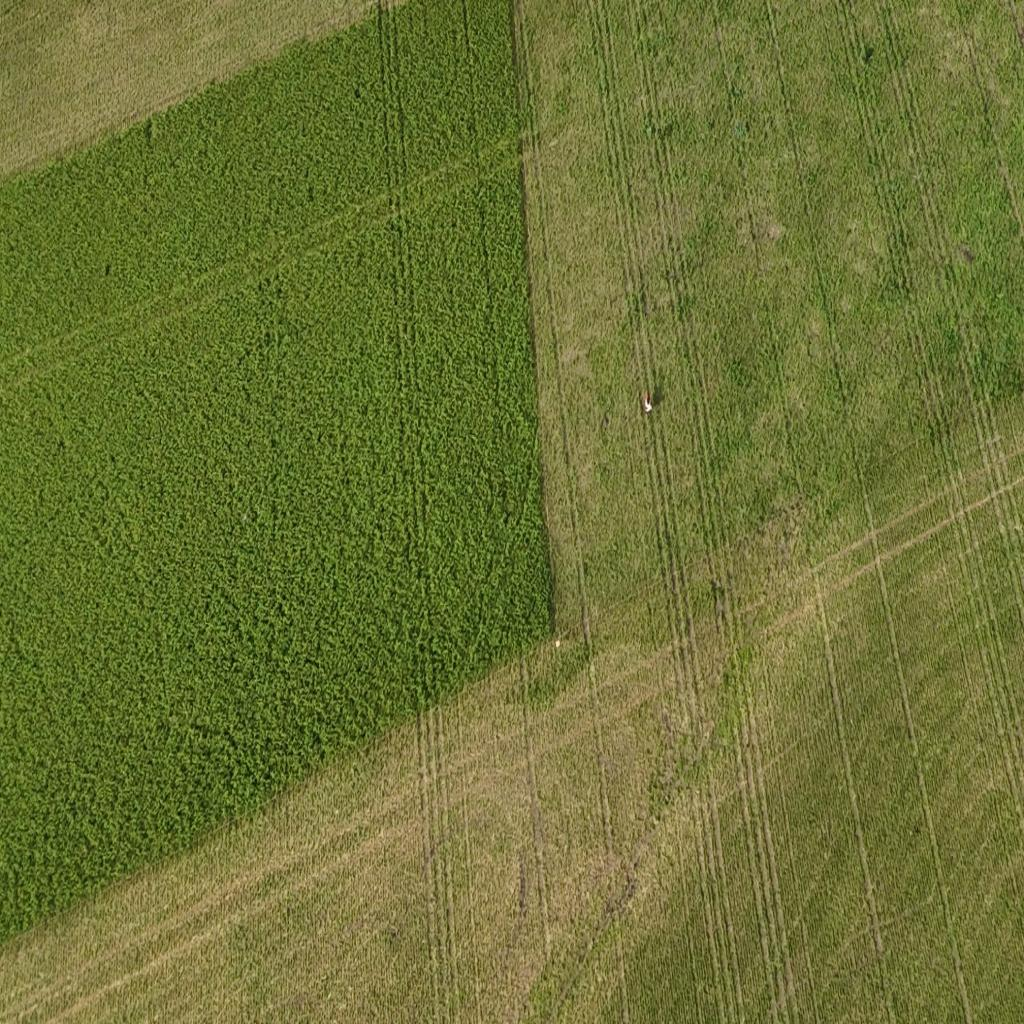cow: (641, 386, 655, 420)
